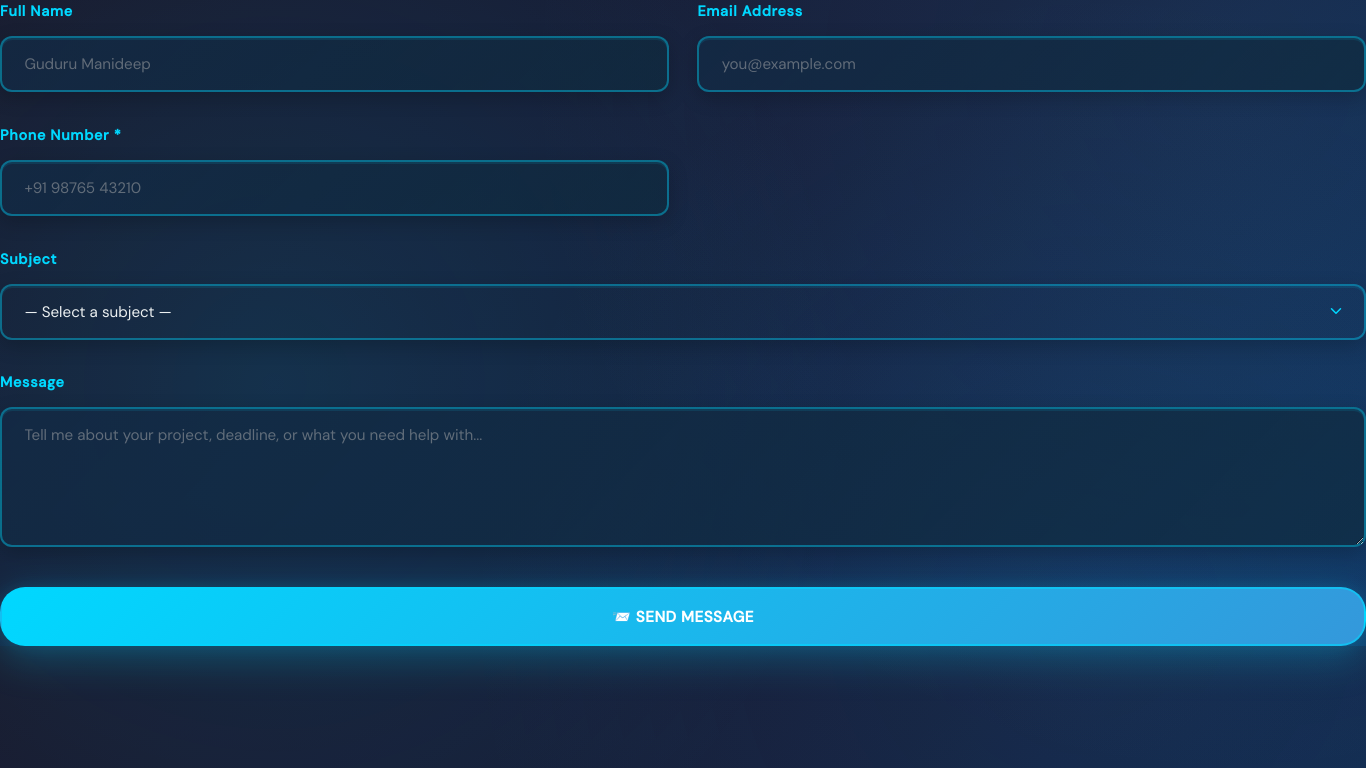
ContactForm › shows email validation error for invalid email
Type "Test User" into the field labelled "Full Name" at (334, 64), box [0,36,669,92]
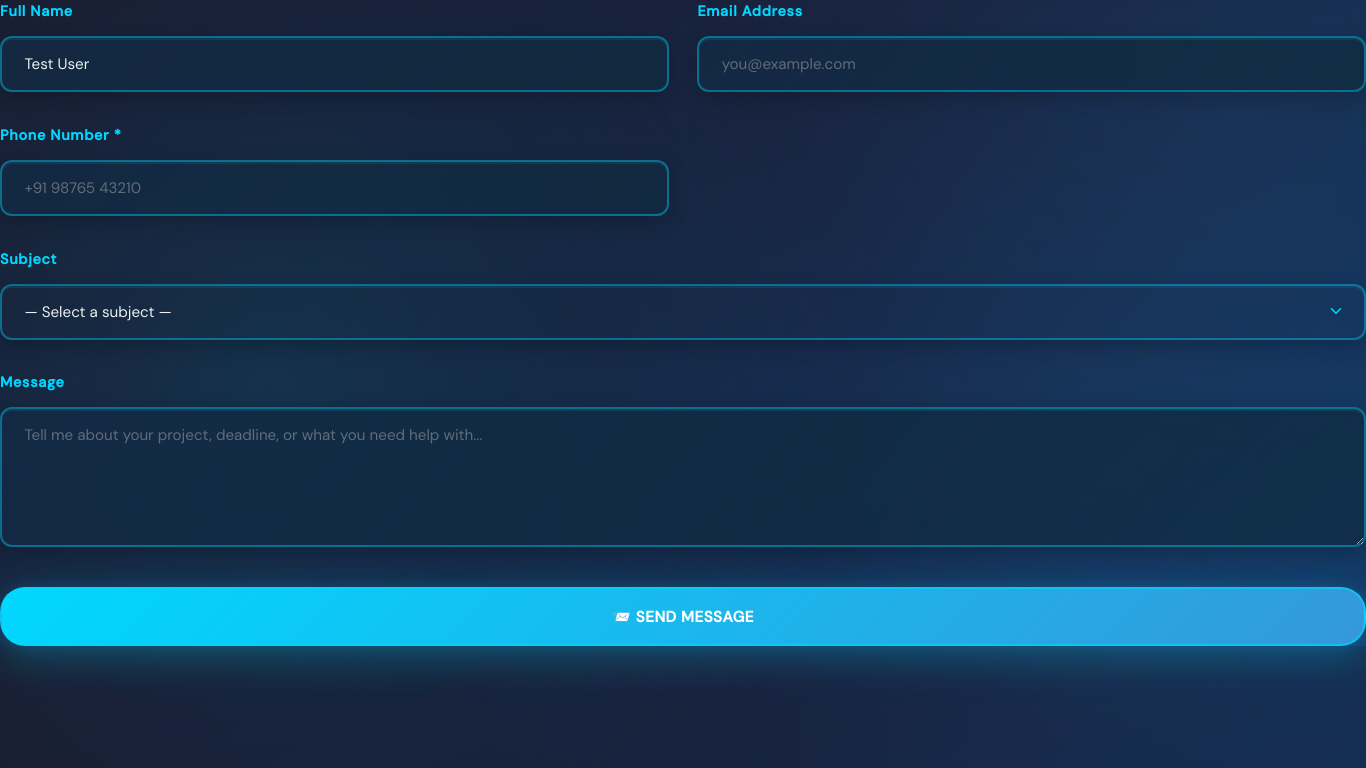
Type "not-an-email" into the field labelled "Email Address" at (1032, 64), box [697,36,1365,92]
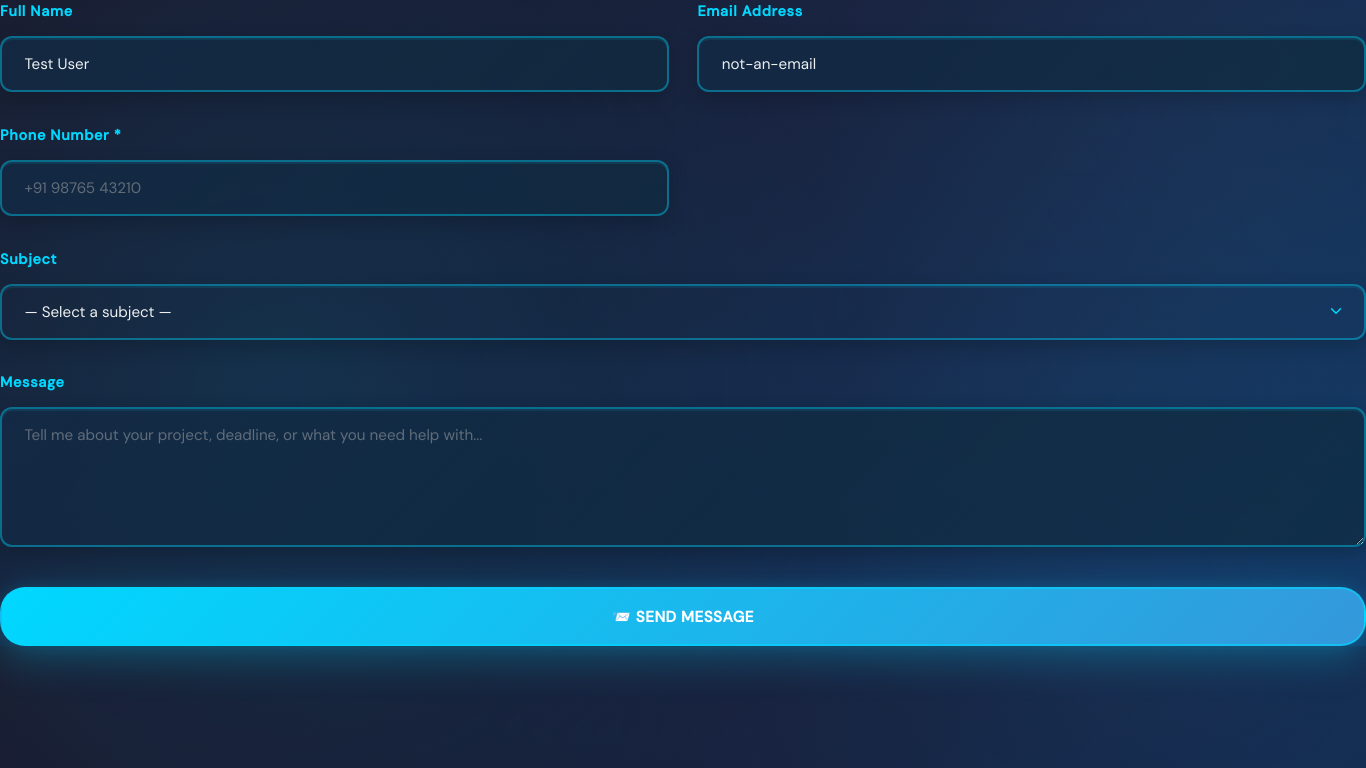
Click the button "📨 Send Message" at (683, 616), box [0,587,1365,646]
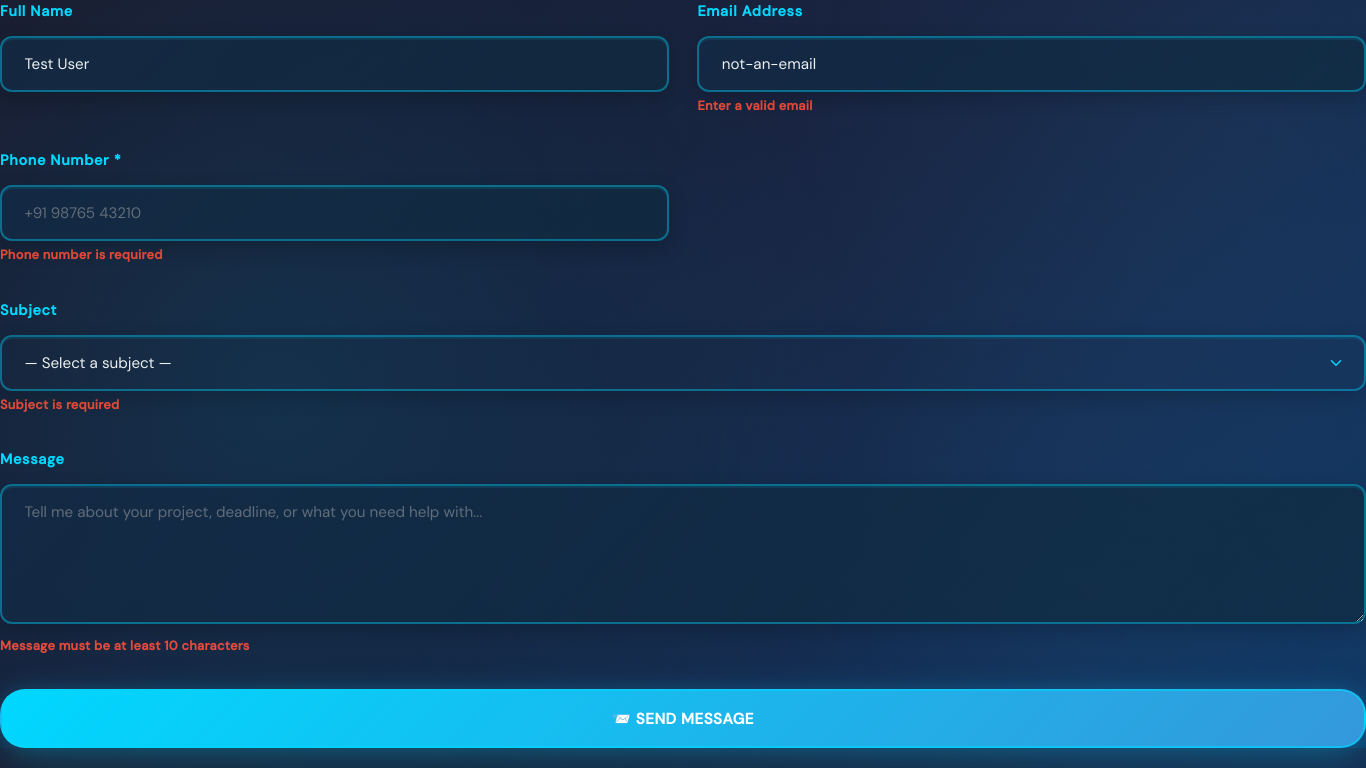
Expected: the text "Enter a valid email" is shown, [697,97,813,114]
